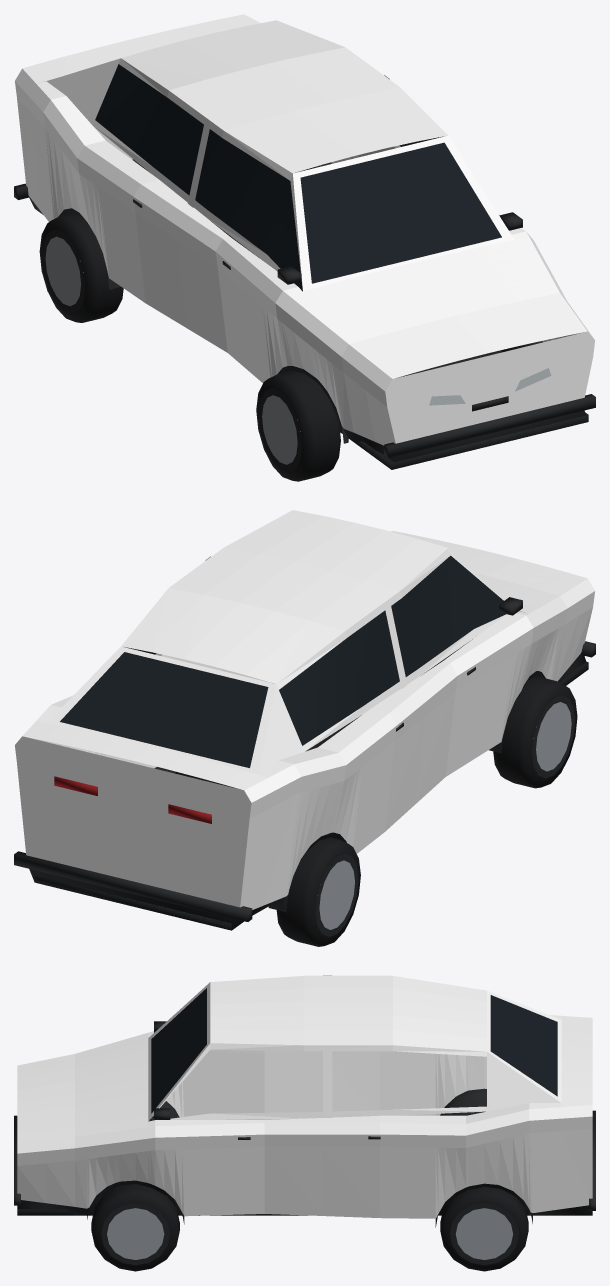
Rendered from kanaya_vereda.glb.
3 views of the same model, one above another, from view 1: azimuth 30°, elevation 25°; view 2: azimuth 150°, elevation 25°; view 3: azimuth 270°, elevation 25° (orthographic). The views are drawn at different scales.
Visible parts, largest first — view 1: Body_Paint, Body_Details, Mount_FrontLeft_Wheel_Details, Mount_RearLeft_Wheel_Details; view 2: Body_Paint, Body_Details, Mount_FrontLeft_Wheel_Details, Mount_RearLeft_Wheel_Details; view 3: Body_Paint, Body_Details, Mount_FrontRight_Wheel_Details, Mount_RearRight_Wheel_Details.
Part boxes in pixels (x1,y1,x2,y2): Body_Paint: (15,14,594,445); Body_Details: (14,64,595,469); Mount_FrontLeft_Wheel_Details: (256,370,340,481); Mount_RearLeft_Wheel_Details: (39,213,123,322); Body_Paint: (15,510,594,909); Body_Details: (14,555,595,930); Mount_FrontLeft_Wheel_Details: (493,676,577,788); Mount_RearLeft_Wheel_Details: (276,837,360,946); Body_Paint: (17,975,592,1218); Body_Details: (14,988,595,1227); Mount_FrontRight_Wheel_Details: (91,1184,179,1271); Mount_RearRight_Wheel_Details: (440,1187,528,1271).
Size of the model in its own units: 2.02 by 1.85 by 4.61.
Materials: 2 (1 with a texture image).
